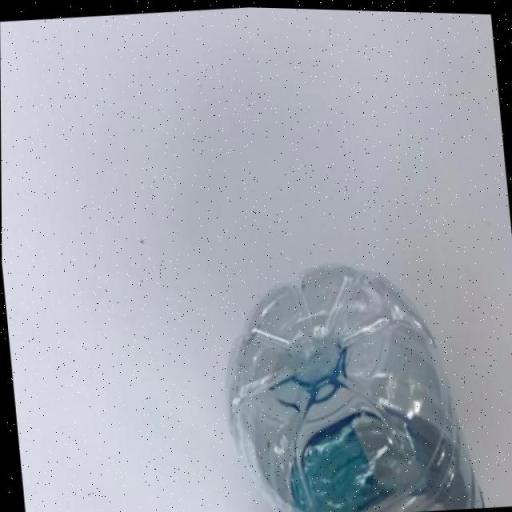plastic: (206, 241, 492, 512)
